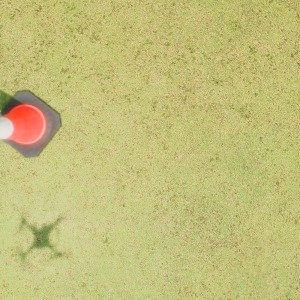traffic cone: (1, 90, 60, 157)
